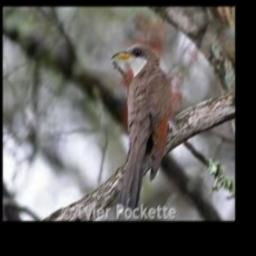Cuckoo: (111, 43, 171, 213)
